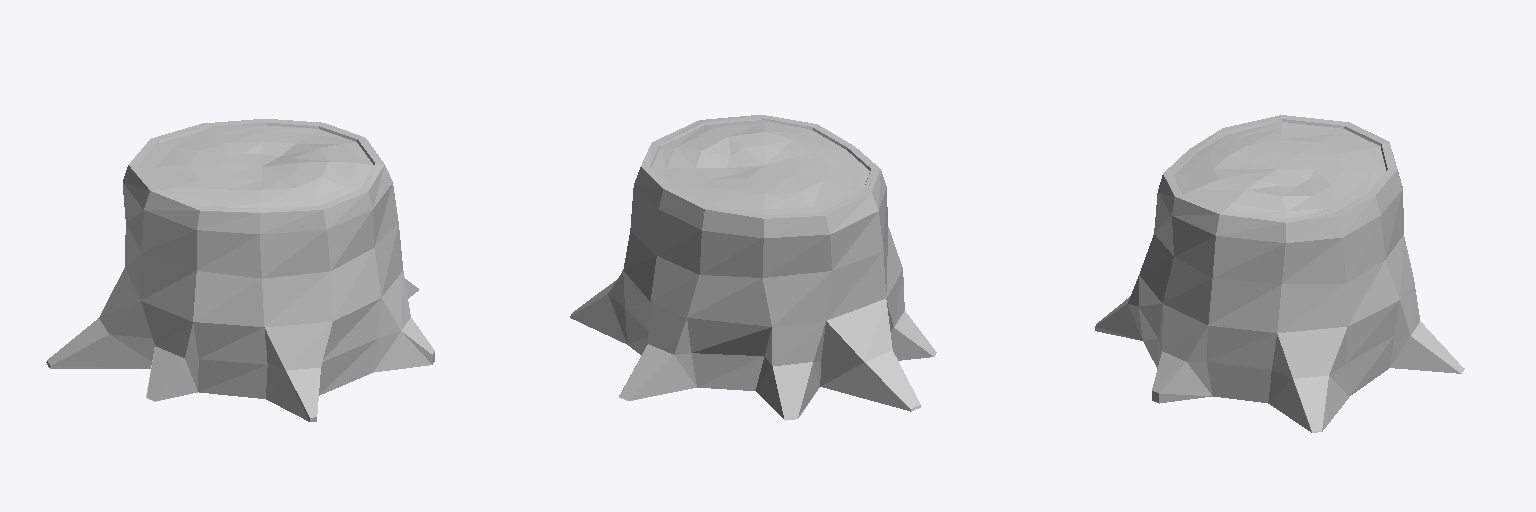
The model's file is treeStump.obj.
3 renders of one model, left to right at view 1: azimuth 30°, elevation 25°; view 2: azimuth 150°, elevation 25°; view 3: azimuth 270°, elevation 25°, orthographic.
Bounding box in the file's own units: 8.03 × 3.97 × 7.16.